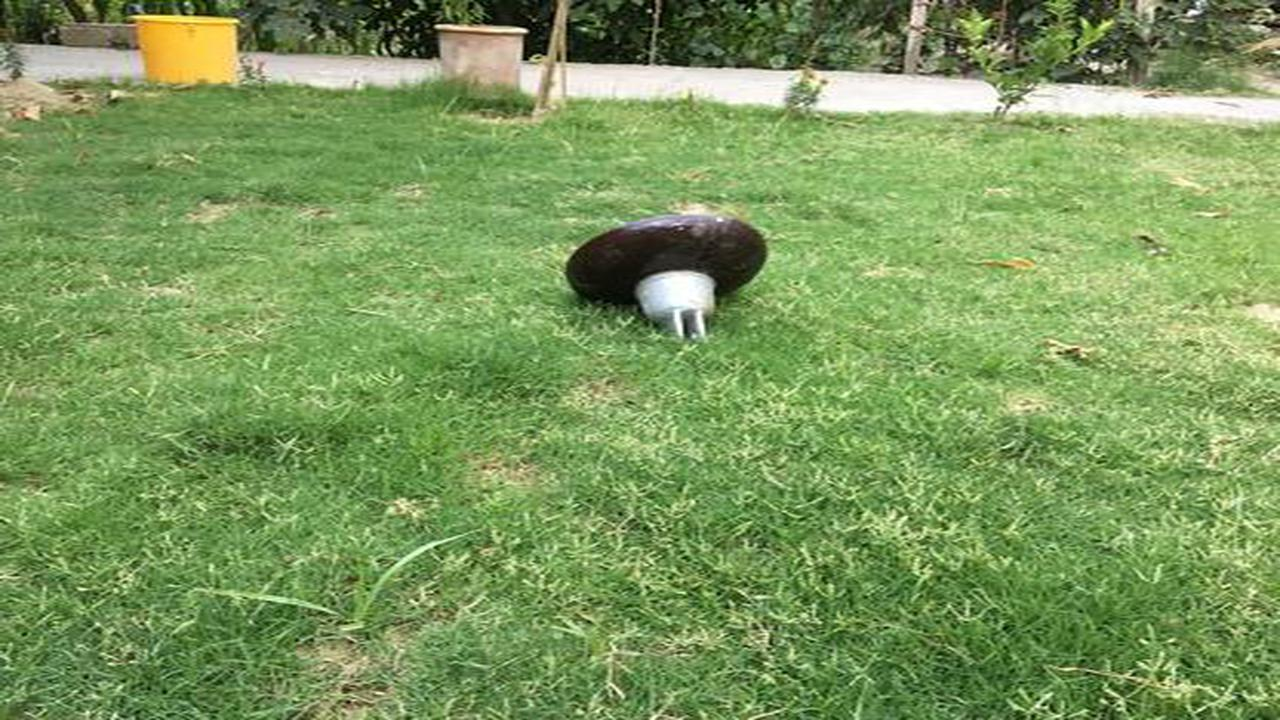insulator_disc: (563, 211, 770, 351)
